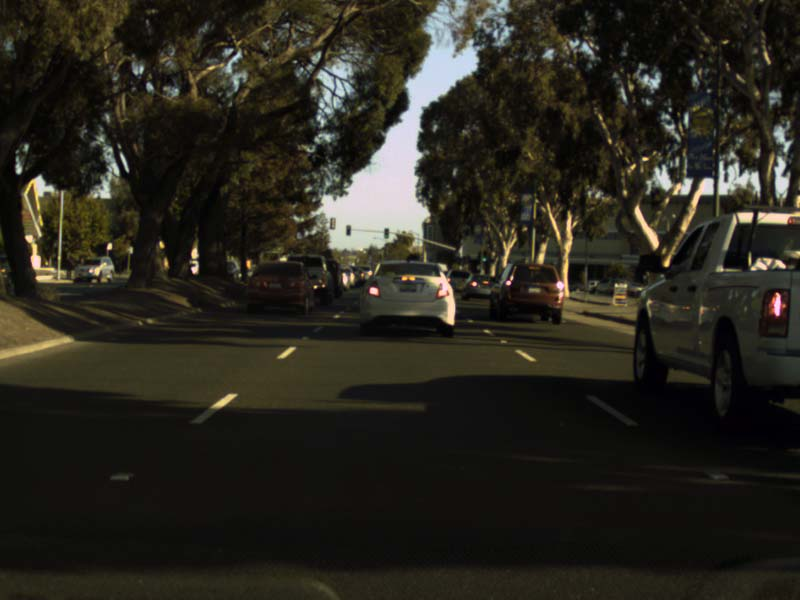Green: (481, 251, 486, 261), (384, 229, 388, 238)
Red: (346, 225, 350, 235)
